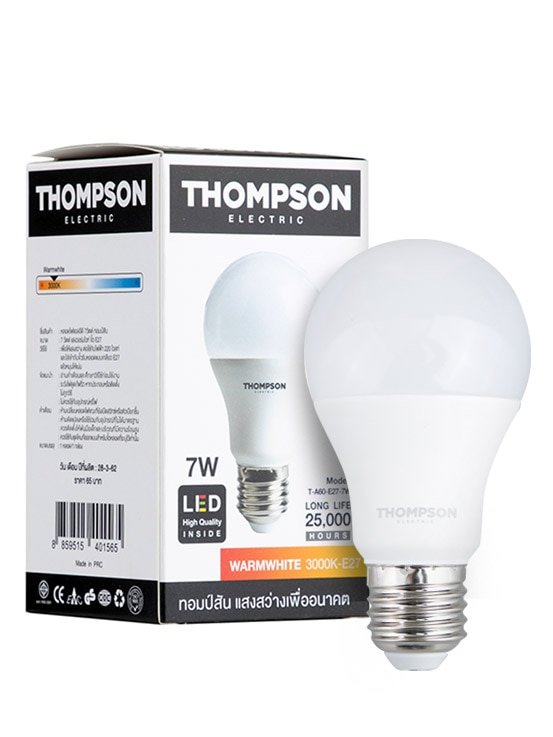Light_bulb: (292, 232, 539, 681)
